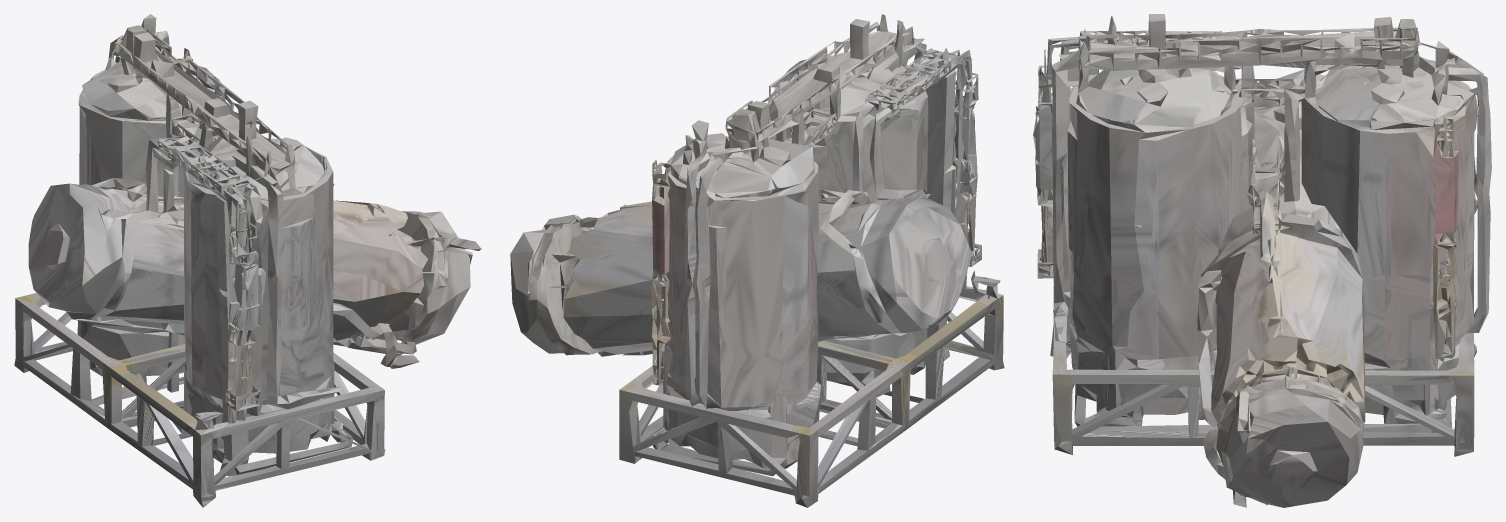
The picture shows the model from 3 angles, left to right: view 1: azimuth 30°, elevation 25°; view 2: azimuth 150°, elevation 25°; view 3: azimuth 270°, elevation 25°; orthographic projection. The views are drawn at different scales.
Visible parts, largest first — view 1: k02; view 2: k02; view 3: k02.
Part boxes in pixels (box(x1,y1,x2,y2)): k02: box(14, 14, 481, 507); k02: box(510, 14, 1004, 507); k02: box(1033, 14, 1491, 507).
Bounding box in the file's own units: 17.5 × 14 × 14.95.
1 material, 1 textured.
